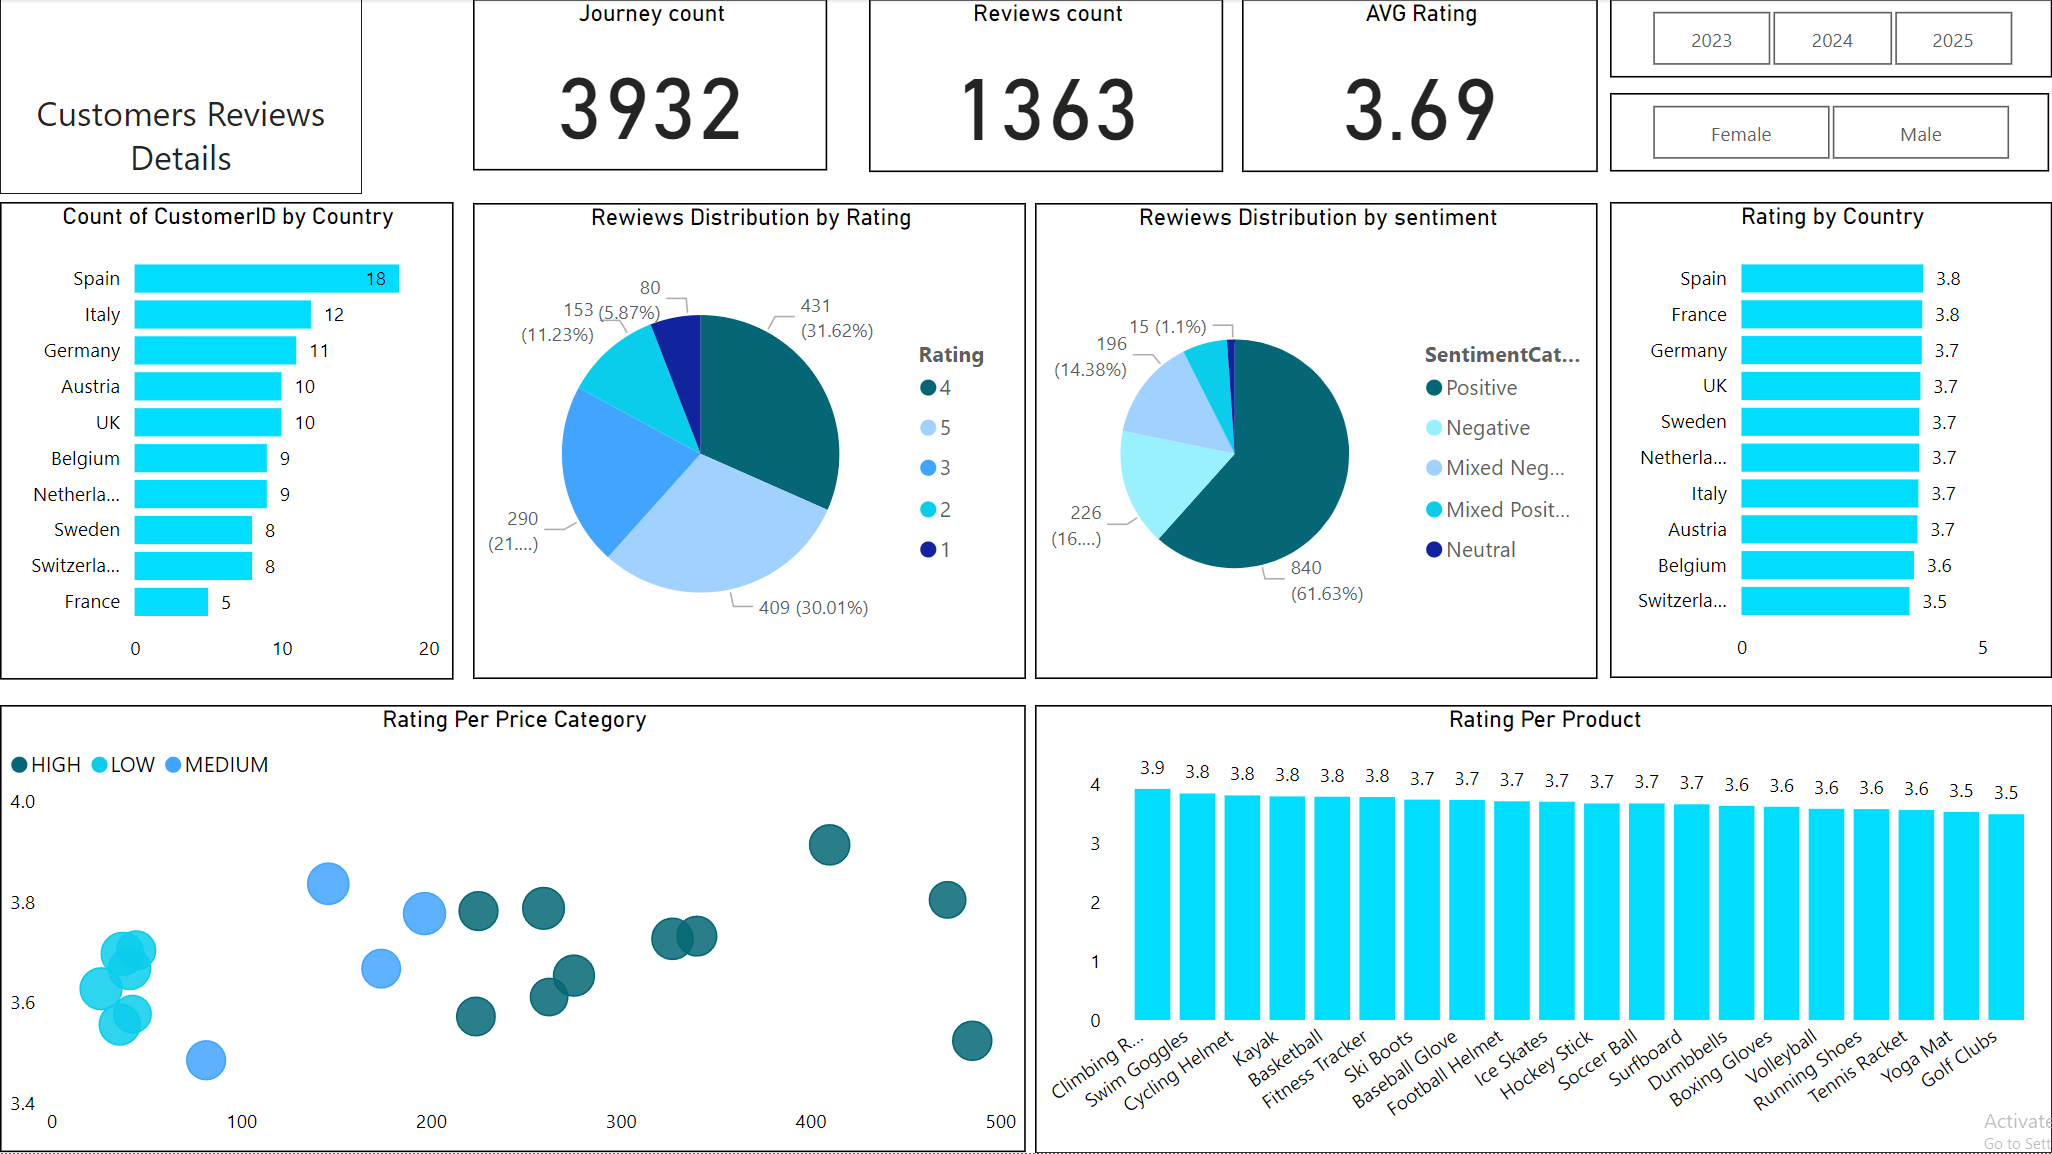

Layout of this report page (visuals, bound fields, positions):
{"tool":"powerbi","page":{"name":"Customer Review Details","canvas":[1280,720],"ordinal":3},"visuals":[{"type":"card","title":"AVG Rating","fields":{"Values":["_measures.AVG_Rating"]},"box":[774.9,0,222.1,107.9],"z":0},{"type":"clusteredColumnChart","title":"Rating Per Product","fields":{"Category":["Dim_Product.ProductName"],"Y":["_measures.AVG_Rating"]},"box":[645.8,440.5,634.5,279.5],"z":1000},{"type":"scatterChart","title":"Rating Per Price Category","fields":{"Y":["_measures.AVG_Rating"],"X":["Dim_Product.Price"],"Series":["Dim_Product.PriceCategory"],"Size":["_measures.number of reviews"]},"box":[0,440.4,640,279.4],"z":2000},{"type":"slicer","fields":{"Values":["Dim_Customers.Gender"]},"box":[1004.5,58.6,273.9,49.3],"z":3000},{"type":"slicer","fields":{"Values":["Calendar.Date.Variation.Date Hierarchy.Year"]},"box":[1004.5,0,275.8,49.3],"z":4000},{"type":"pieChart","title":"Rewiews Distribution by Rating","fields":{"Category":["fact_customer_reviews.Rating"],"Y":["_measures.number of reviews"]},"box":[295.1,127.3,345,297],"z":5000},{"type":"pieChart","title":"Rewiews Distribution by sentiment","fields":{"Category":["fact_customer_reviews.SentimentCategory"],"Y":["_measures.number of reviews"]},"box":[645.8,127.3,351.3,297],"z":6000},{"type":"clusteredBarChart","title":"Rating by Country","fields":{"Category":["Dim_Customers.Country"],"Y":["_measures.AVG_Rating"]},"box":[1004.5,126.7,275.8,297],"z":7000},{"type":"card","title":"Reviews count","fields":{"Values":["_measures.number of reviews"]},"box":[542.2,0,221.5,107.9],"z":8000},{"type":"card","title":"Journey count","fields":{"Values":["_measures.Number of journeys"]},"box":[295.1,0,221.5,107.3],"z":9000},{"type":"textbox","box":[0,0,225.8,121.7],"z":10000},{"type":"clusteredBarChart","fields":{"Category":["Dim_Customers.Country"],"Y":["CountNonNull(Dim_Customers.CustomerID)"]},"box":[0,126.7,282.6,297.6],"z":11000}]}

Visuals, with their boxes in screenshot pixels (x1, y1, x2, y2), scaled from the page's 1280x720 canvas onto the 2052x1154 screenshot:
"AVG Rating" card: select_region(1242, 0, 1598, 173)
"Rating Per Product" clusteredColumnChart: select_region(1035, 706, 2051, 1153)
"Rating Per Price Category" scatterChart: select_region(0, 706, 1026, 1153)
slicer - Dim_Customers.Gender: select_region(1610, 94, 2049, 173)
slicer - Calendar.Date.Variation.Date Hierarchy.Year: select_region(1610, 0, 2051, 79)
"Rewiews Distribution by Rating" pieChart: select_region(473, 204, 1026, 680)
"Rewiews Distribution by sentiment" pieChart: select_region(1035, 204, 1598, 680)
"Rating by Country" clusteredBarChart: select_region(1610, 203, 2051, 679)
"Reviews count" card: select_region(869, 0, 1224, 173)
"Journey count" card: select_region(473, 0, 828, 172)
textbox: select_region(0, 0, 362, 195)
clusteredBarChart - Dim_Customers.Country x CountNonNull(Dim_Customers.CustomerID): select_region(0, 203, 453, 680)
